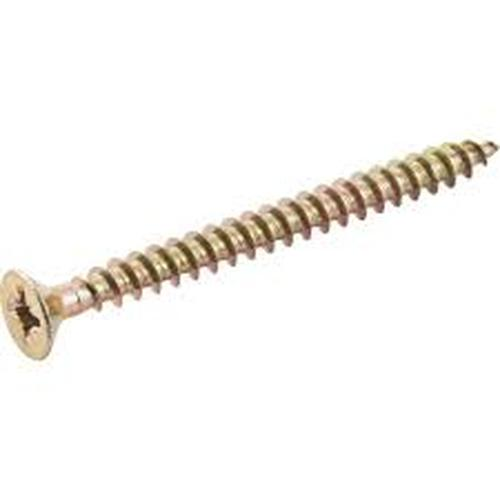Tornillo: (1, 138, 499, 361)
